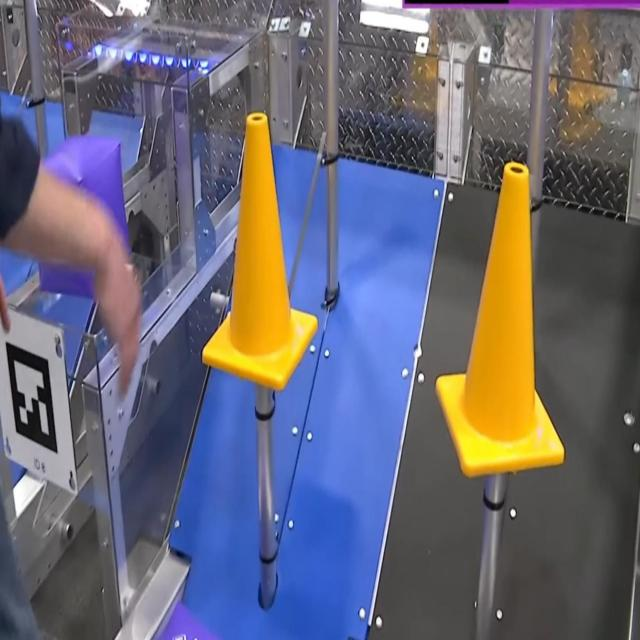frc_cone: (433, 164, 564, 478), (200, 112, 319, 390)
frc_cube: (30, 134, 131, 298), (142, 601, 230, 640)
